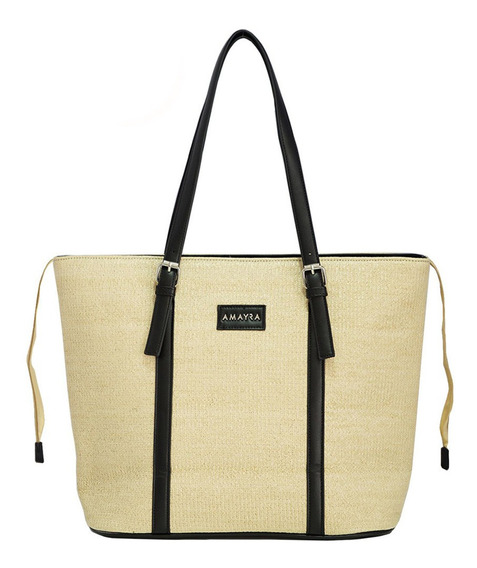cartera: (26, 27, 457, 544)
